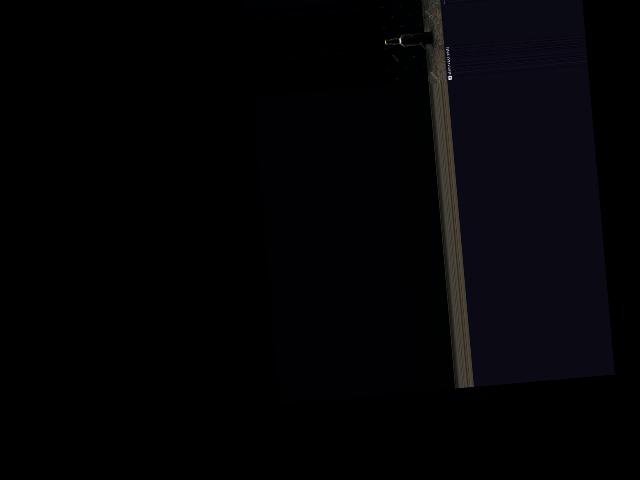beer: (384, 31, 432, 46)
